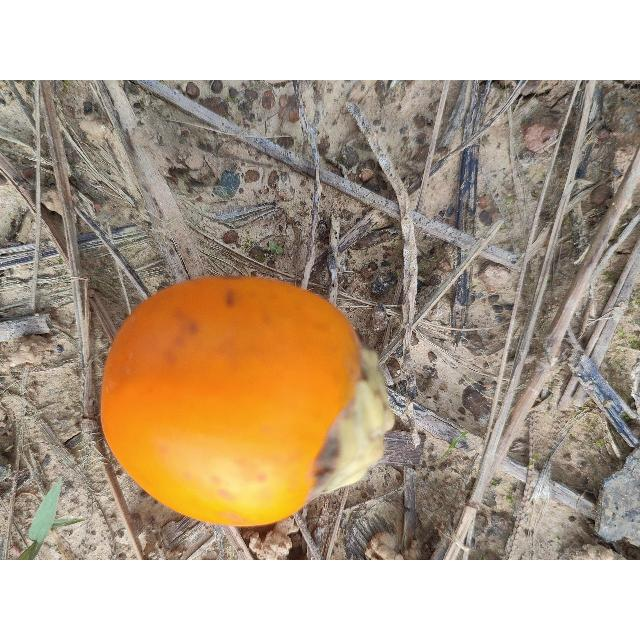good: (98, 276, 396, 529)
